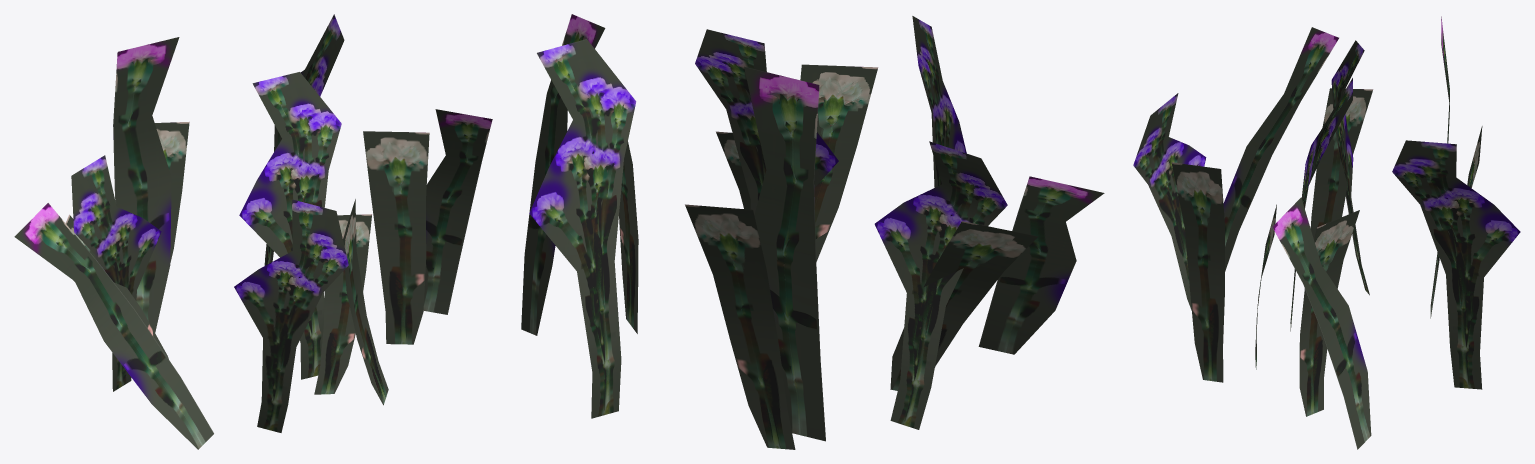
File: FlowerLilly.fbx
3 renders of one model, left to right at view 1: azimuth 30°, elevation 25°; view 2: azimuth 150°, elevation 25°; view 3: azimuth 270°, elevation 25°, orthographic. The views are drawn at different scales.
Visible parts, largest first — view 1: FlowerLilly_p2, FlowerLilly_p1, FlowerLilly_p3; view 2: FlowerLilly_p1, FlowerLilly_p2, FlowerLilly_p3; view 3: FlowerLilly_p1, FlowerLilly_p3, FlowerLilly_p2.
Part boxes in pixels (bbox=[...]): FlowerLilly_p2: bbox=[14, 37, 492, 449]; FlowerLilly_p1: bbox=[71, 14, 348, 432]; FlowerLilly_p3: bbox=[65, 121, 429, 405]; FlowerLilly_p1: bbox=[529, 16, 1007, 429]; FlowerLilly_p2: bbox=[521, 14, 1104, 441]; FlowerLilly_p3: bbox=[619, 64, 1038, 449]; FlowerLilly_p1: bbox=[1133, 40, 1520, 389]; FlowerLilly_p3: bbox=[1171, 88, 1482, 416]; FlowerLilly_p2: bbox=[1223, 16, 1449, 449].
Size of the model in its own units: 0.8143 by 0.5095 by 0.5989.
Materials: 1 (1 with a texture image).
